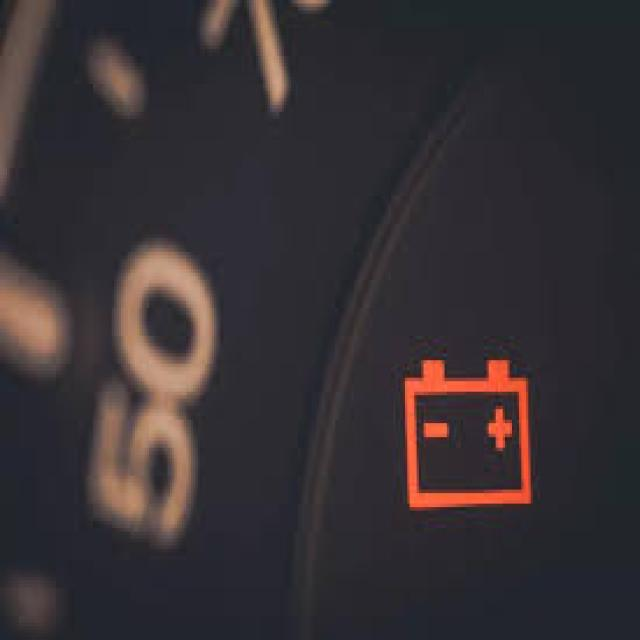kontrolka: (395, 343, 545, 527)
